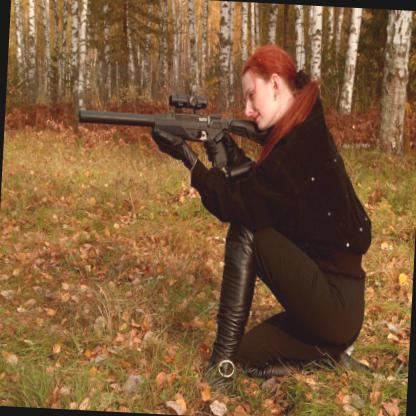rifle: (75, 85, 267, 175)
